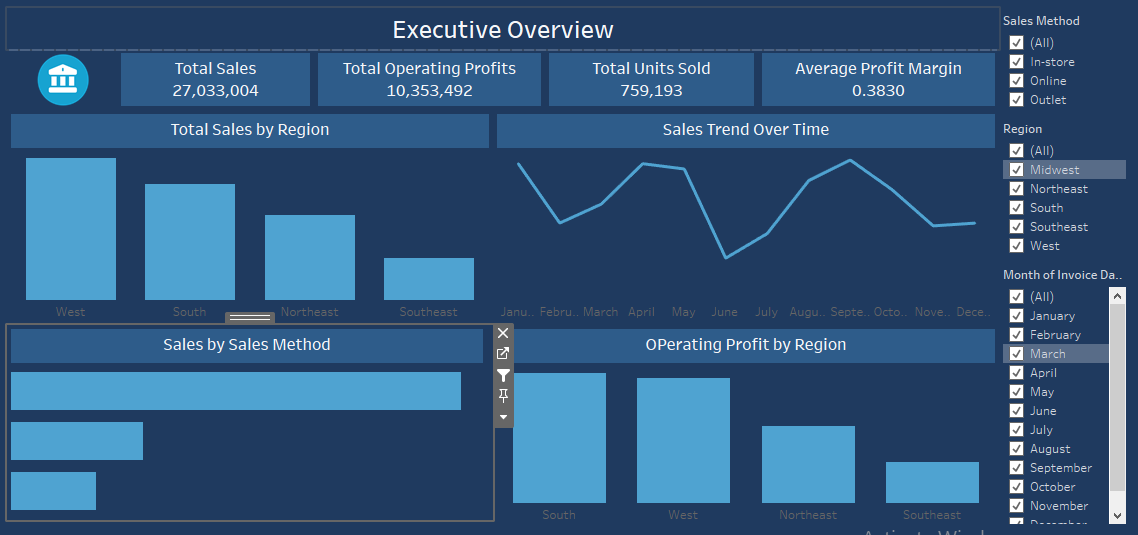

The dashboard page shown, as its layout file describes it:
{"tool":"tableau","page":{"name":"Executive Overview","canvas":[1000,1000],"units":"permille","ordinal":1},"visuals":[{"type":"title","box":[7,14.9,870.6,76.5]},{"type":"filter","title":"Sales by Sales Method","param":"[federated.0g7l6bl0zt3mz518622jh0iirgcy].[none:Sales Method:nk]","box":[877.6,14.9,115.4,201.5]},{"type":"dashboard-object","box":[7,91.4,96.7,113.4]},{"type":"worksheet","title":"KPI Total Sales","mark":"Automatic","box":[103.7,91.4,172.8,113.4]},{"type":"worksheet","title":"KPI Total Oprtating Profits","mark":"Automatic","box":[276.6,91.4,202.8,113.4]},{"type":"worksheet","title":"KPI Total Unit Sold","mark":"Automatic","box":[479.4,91.4,187,113.4]},{"type":"worksheet","title":"KPI AVG Profit Margin","mark":"Automatic","box":[666.4,91.4,211.2,113.4]},{"type":"worksheet","title":"Total Sales by Region","mark":"Automatic","rows":["Total Sales"],"cols":["Region"],"box":[7,204.8,426.7,401.8]},{"type":"worksheet","title":"Sales Trend Over Time","mark":"Automatic","rows":["Total Sales"],"cols":["Invoice Date"],"box":[433.7,204.8,443.9,401.8]},{"type":"filter","title":"Total Sales by Region","param":"[federated.0g7l6bl0zt3mz518622jh0iirgcy].[none:Region:nk]","box":[877.6,216.4,115.4,272.4]},{"type":"filter","title":"Sales Trend Over Time","param":"[federated.0g7l6bl0zt3mz518622jh0iirgcy].[mn:Invoice Date:ok]","box":[877.6,488.8,115.4,496.2]},{"type":"worksheet","title":"Sales by Sales Method","mark":"Automatic","rows":["Sales Method"],"cols":["Total Sales"],"box":[7,606.6,426.7,330.2]},{"type":"worksheet","title":"OPerating Profit by Region","mark":"Automatic","rows":["Operating Profit"],"cols":["Region"],"box":[433.7,606.6,443.9,378.4]}]}

Visuals, with their boxes on the dashboard's canvas, which has no fixed pixel size, in thousandths of its width and height (x1, y1, x2, y2). These are canvas units, not pixel positions in the 1138x535 screenshot, which may show the page scaled, cropped or inside an application window:
title: bbox=[7, 15, 878, 91]
"Sales by Sales Method" filter: bbox=[878, 15, 993, 216]
dashboard-object: bbox=[7, 91, 104, 205]
"KPI Total Sales" worksheet: bbox=[104, 91, 276, 205]
"KPI Total Oprtating Profits" worksheet: bbox=[277, 91, 479, 205]
"KPI Total Unit Sold" worksheet: bbox=[479, 91, 666, 205]
"KPI AVG Profit Margin" worksheet: bbox=[666, 91, 878, 205]
"Total Sales by Region" worksheet: bbox=[7, 205, 434, 607]
"Sales Trend Over Time" worksheet: bbox=[434, 205, 878, 607]
"Total Sales by Region" filter: bbox=[878, 216, 993, 489]
"Sales Trend Over Time" filter: bbox=[878, 489, 993, 985]
"Sales by Sales Method" worksheet: bbox=[7, 607, 434, 937]
"OPerating Profit by Region" worksheet: bbox=[434, 607, 878, 985]
